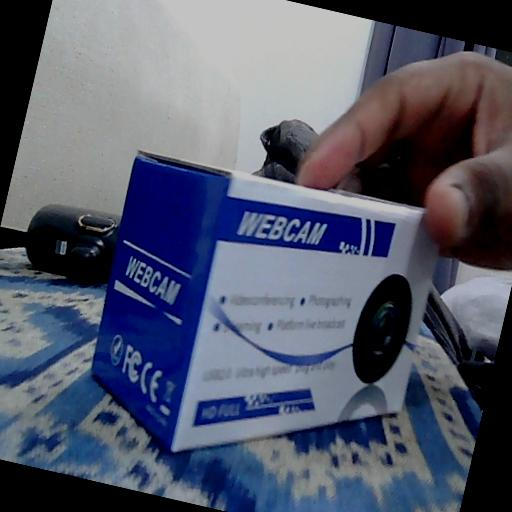webcam_box: (70, 140, 454, 505)
